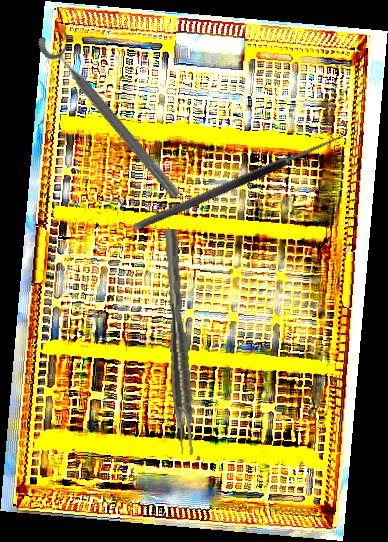Fixation Ring: (34, 22, 194, 203)
Hook Surgical: (127, 118, 352, 233)
Tissue Forceps: (164, 228, 196, 456)
